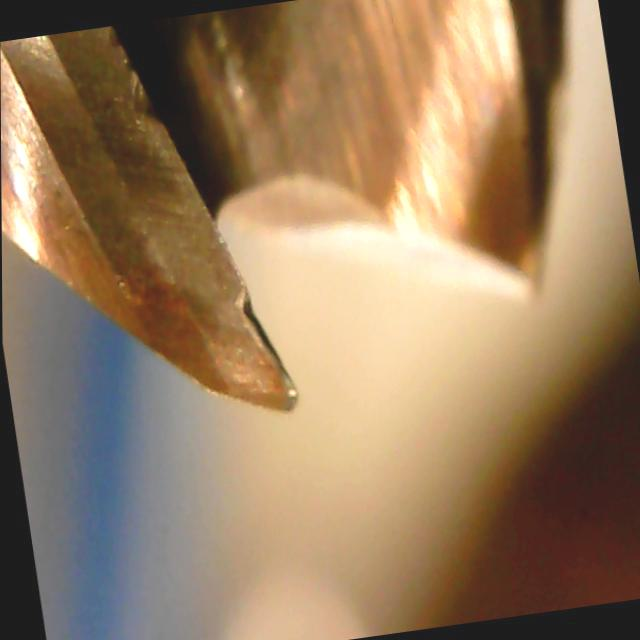Tool-wear-class-1: (143, 213, 331, 447)
